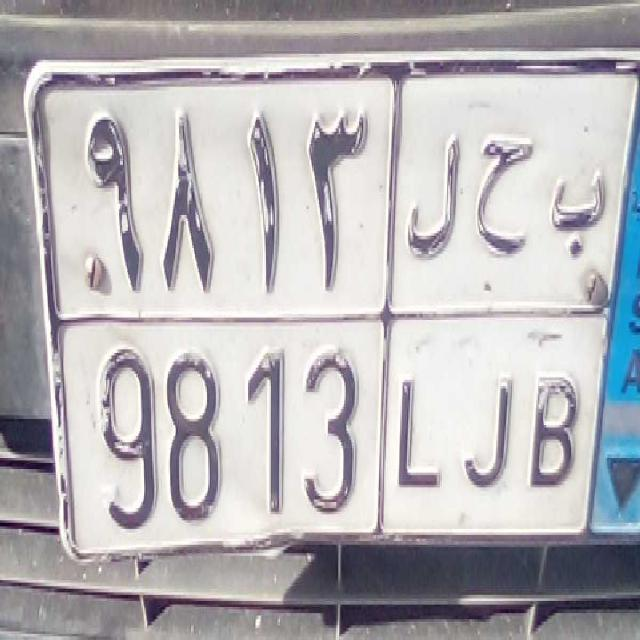license_plate: (70, 308, 590, 532)
